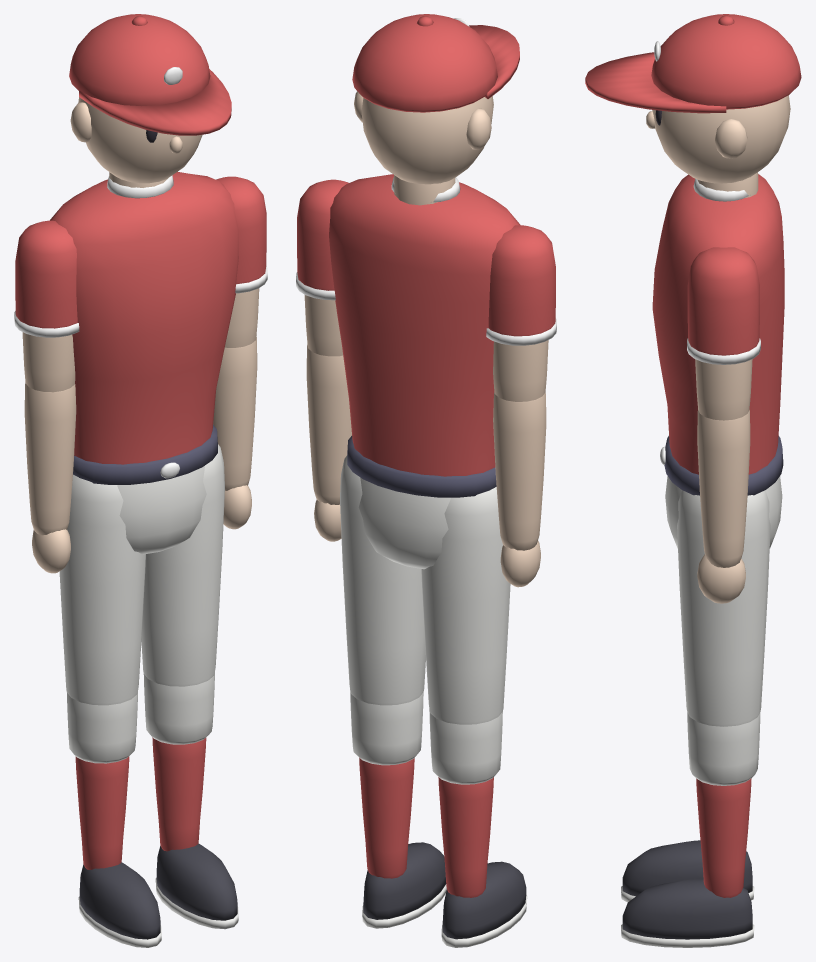
The model's file is player.glb.
The picture shows the model from 3 angles, left to right: view 1: azimuth 30°, elevation 25°; view 2: azimuth 150°, elevation 25°; view 3: azimuth 270°, elevation 25°; orthographic projection. The views are drawn at different scales.
Parts seen in each view (by area): view 1: Torso, LegUpperL, Cap, LegUpperR, ArmUpperL, LegLowerR, LegLowerL, Pelvis, ArmLowerL, Head, ArmLowerR, FootR (+2 smaller); view 2: Torso, LegUpperL, LegUpperR, Cap, ArmUpperL, LegLowerL, LegLowerR, Head, Pelvis, ArmLowerL, ArmLowerR, ArmUpperR (+2 smaller); view 3: Torso, LegUpperR, Cap, ArmUpperR, LegLowerR, Head, ArmLowerR, FootR, FootL, Pelvis.
Boxes of the visible parts, bbox=[...] form: Torso: bbox=[50, 171, 238, 464]; LegUpperL: bbox=[59, 474, 145, 705]; Cap: bbox=[69, 14, 231, 135]; LegUpperR: bbox=[141, 444, 224, 686]; ArmUpperL: bbox=[14, 220, 79, 392]; LegLowerR: bbox=[143, 673, 214, 851]; LegLowerL: bbox=[67, 692, 137, 869]; Pelvis: bbox=[73, 425, 217, 554]; ArmLowerL: bbox=[24, 383, 76, 573]; Head: bbox=[70, 97, 202, 187]; ArmLowerR: bbox=[213, 336, 257, 529]; FootR: bbox=[155, 843, 238, 929]; Torso: bbox=[329, 174, 520, 476]; LegUpperL: bbox=[421, 487, 510, 724]; LegUpperR: bbox=[340, 455, 425, 705]; Cap: bbox=[352, 14, 519, 112]; ArmUpperL: bbox=[486, 225, 556, 401]; LegLowerL: bbox=[429, 709, 502, 897]; LegLowerR: bbox=[350, 689, 423, 878]; Head: bbox=[354, 91, 493, 205]; Pelvis: bbox=[347, 436, 496, 569]; ArmLowerL: bbox=[493, 393, 546, 587]; ArmLowerR: bbox=[306, 344, 351, 541]; ArmUpperR: bbox=[296, 179, 348, 356]; Torso: bbox=[652, 174, 784, 474]; LegUpperR: bbox=[677, 490, 770, 726]; Cap: bbox=[585, 14, 801, 113]; ArmUpperR: bbox=[687, 247, 760, 420]; LegLowerR: bbox=[687, 711, 760, 897]; Head: bbox=[646, 95, 790, 197]; ArmLowerR: bbox=[697, 410, 750, 603]; FootR: bbox=[621, 878, 754, 947]; FootL: bbox=[621, 840, 754, 902]; Pelvis: bbox=[660, 436, 783, 548].
Size of the model in its own units: 0.539 by 1.86 by 0.4058.
